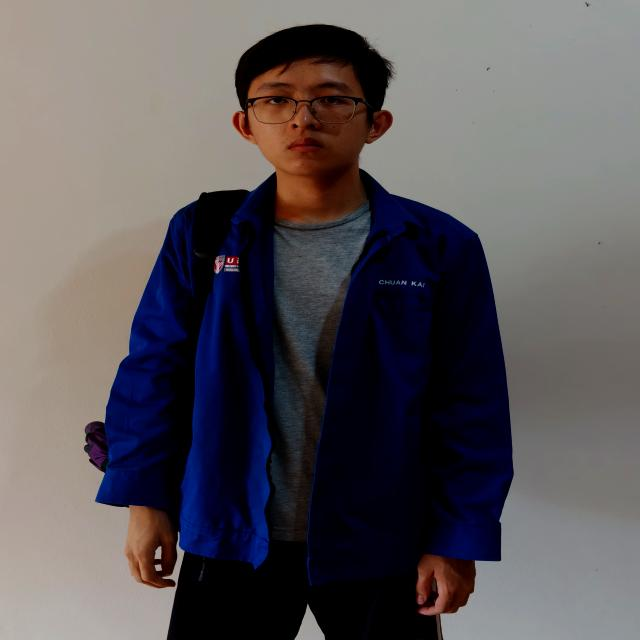person_with_labcoat: (85, 25, 512, 640)
